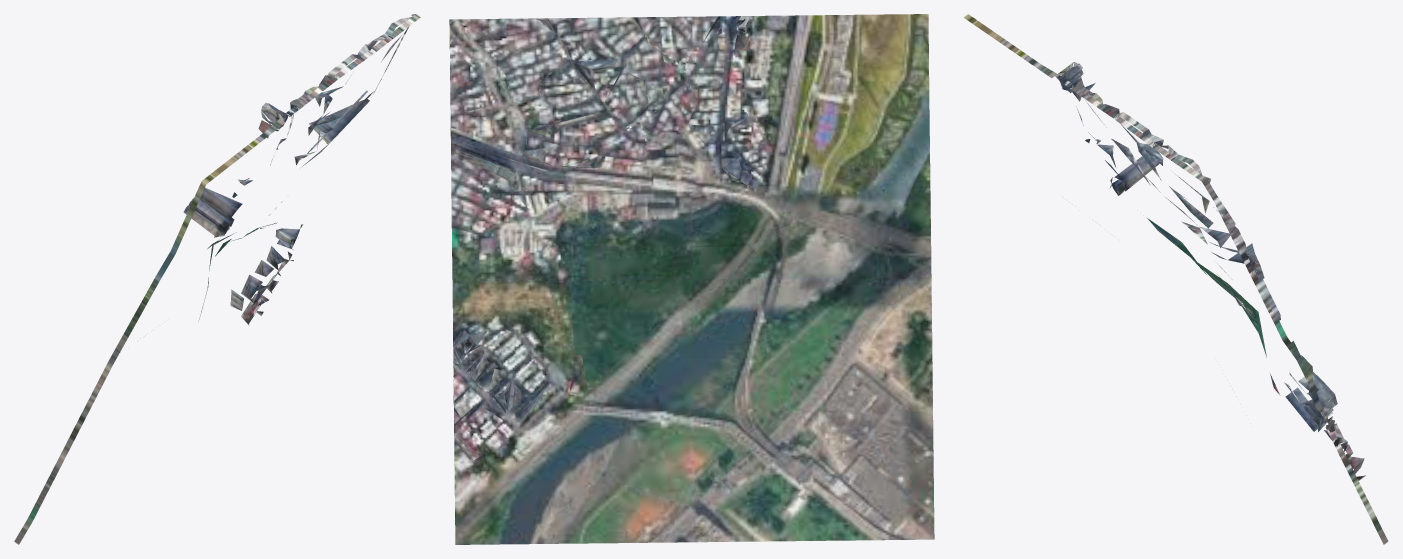
3 views of the same model, side by side, from view 1: azimuth 30°, elevation 25°; view 2: azimuth 150°, elevation 25°; view 3: azimuth 270°, elevation 25° (orthographic). The views are drawn at different scales.
Size of the model in its own units: 1228 by 1137 by 1034.
Materials: 1 (1 with a texture image).
